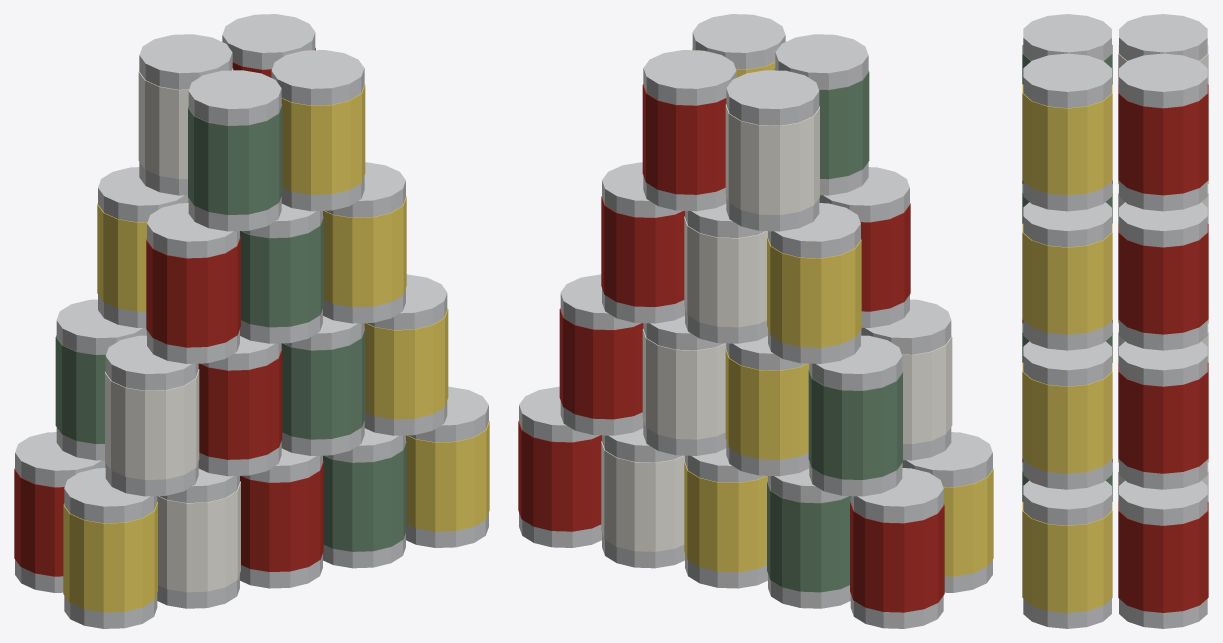
File: estoque_latas.glb
The picture shows the model from 3 angles, left to right: view 1: azimuth 30°, elevation 25°; view 2: azimuth 150°, elevation 25°; view 3: azimuth 270°, elevation 25°; orthographic projection. The views are drawn at different scales.
Parts seen in each view (by area): view 1: estoque_latas_lata, estoque_latas_tinta_amarela, estoque_latas_tinta_verde, estoque_latas_tinta_vermelha, estoque_latas_papel; view 2: estoque_latas_lata, estoque_latas_tinta_vermelha, estoque_latas_papel, estoque_latas_tinta_amarela, estoque_latas_tinta_verde; view 3: estoque_latas_lata, estoque_latas_tinta_vermelha, estoque_latas_tinta_amarela, estoque_latas_tinta_verde, estoque_latas_papel.
Part boxes in pixels (<box>): estoque_latas_lata: <box>15,14,488,628</box>; estoque_latas_tinta_amarela: <box>63,84,489,612</box>; estoque_latas_tinta_verde: <box>55,104,406,551</box>; estoque_latas_tinta_vermelha: <box>14,48,323,576</box>; estoque_latas_papel: <box>105,68,240,592</box>; estoque_latas_lata: <box>519,14,992,628</box>; estoque_latas_tinta_vermelha: <box>518,84,944,612</box>; estoque_latas_papel: <box>601,104,952,551</box>; estoque_latas_tinta_amarela: <box>684,48,993,576</box>; estoque_latas_tinta_verde: <box>767,68,902,592</box>; estoque_latas_lata: <box>1023,14,1207,628</box>; estoque_latas_tinta_vermelha: <box>1022,84,1208,612</box>; estoque_latas_tinta_amarela: <box>1022,84,1208,612</box>; estoque_latas_tinta_verde: <box>1022,45,1112,501</box>; estoque_latas_papel: <box>1118,45,1208,501</box>.
Bounding box in the file's own units: 0.3892 × 0.44 × 0.1553.
